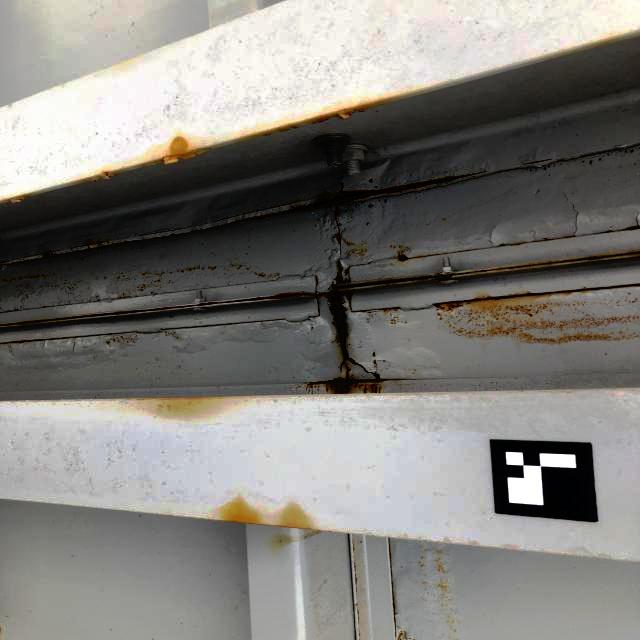Corrosion: (227, 168, 484, 244), (434, 282, 640, 345), (0, 222, 227, 267), (304, 291, 387, 394), (259, 97, 376, 138), (471, 249, 640, 274), (329, 263, 434, 293), (0, 315, 93, 328), (250, 290, 304, 302), (371, 307, 400, 315), (618, 224, 640, 231), (397, 254, 410, 262), (338, 139, 345, 149), (440, 278, 452, 283)
